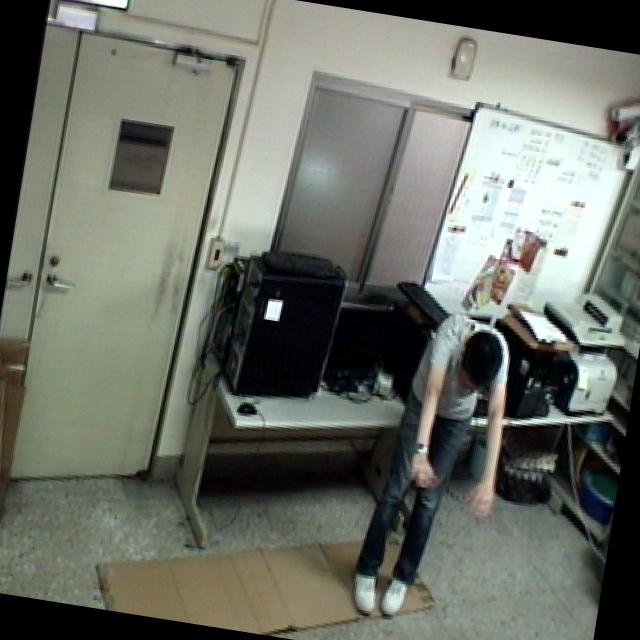bend: (341, 299, 529, 640)
